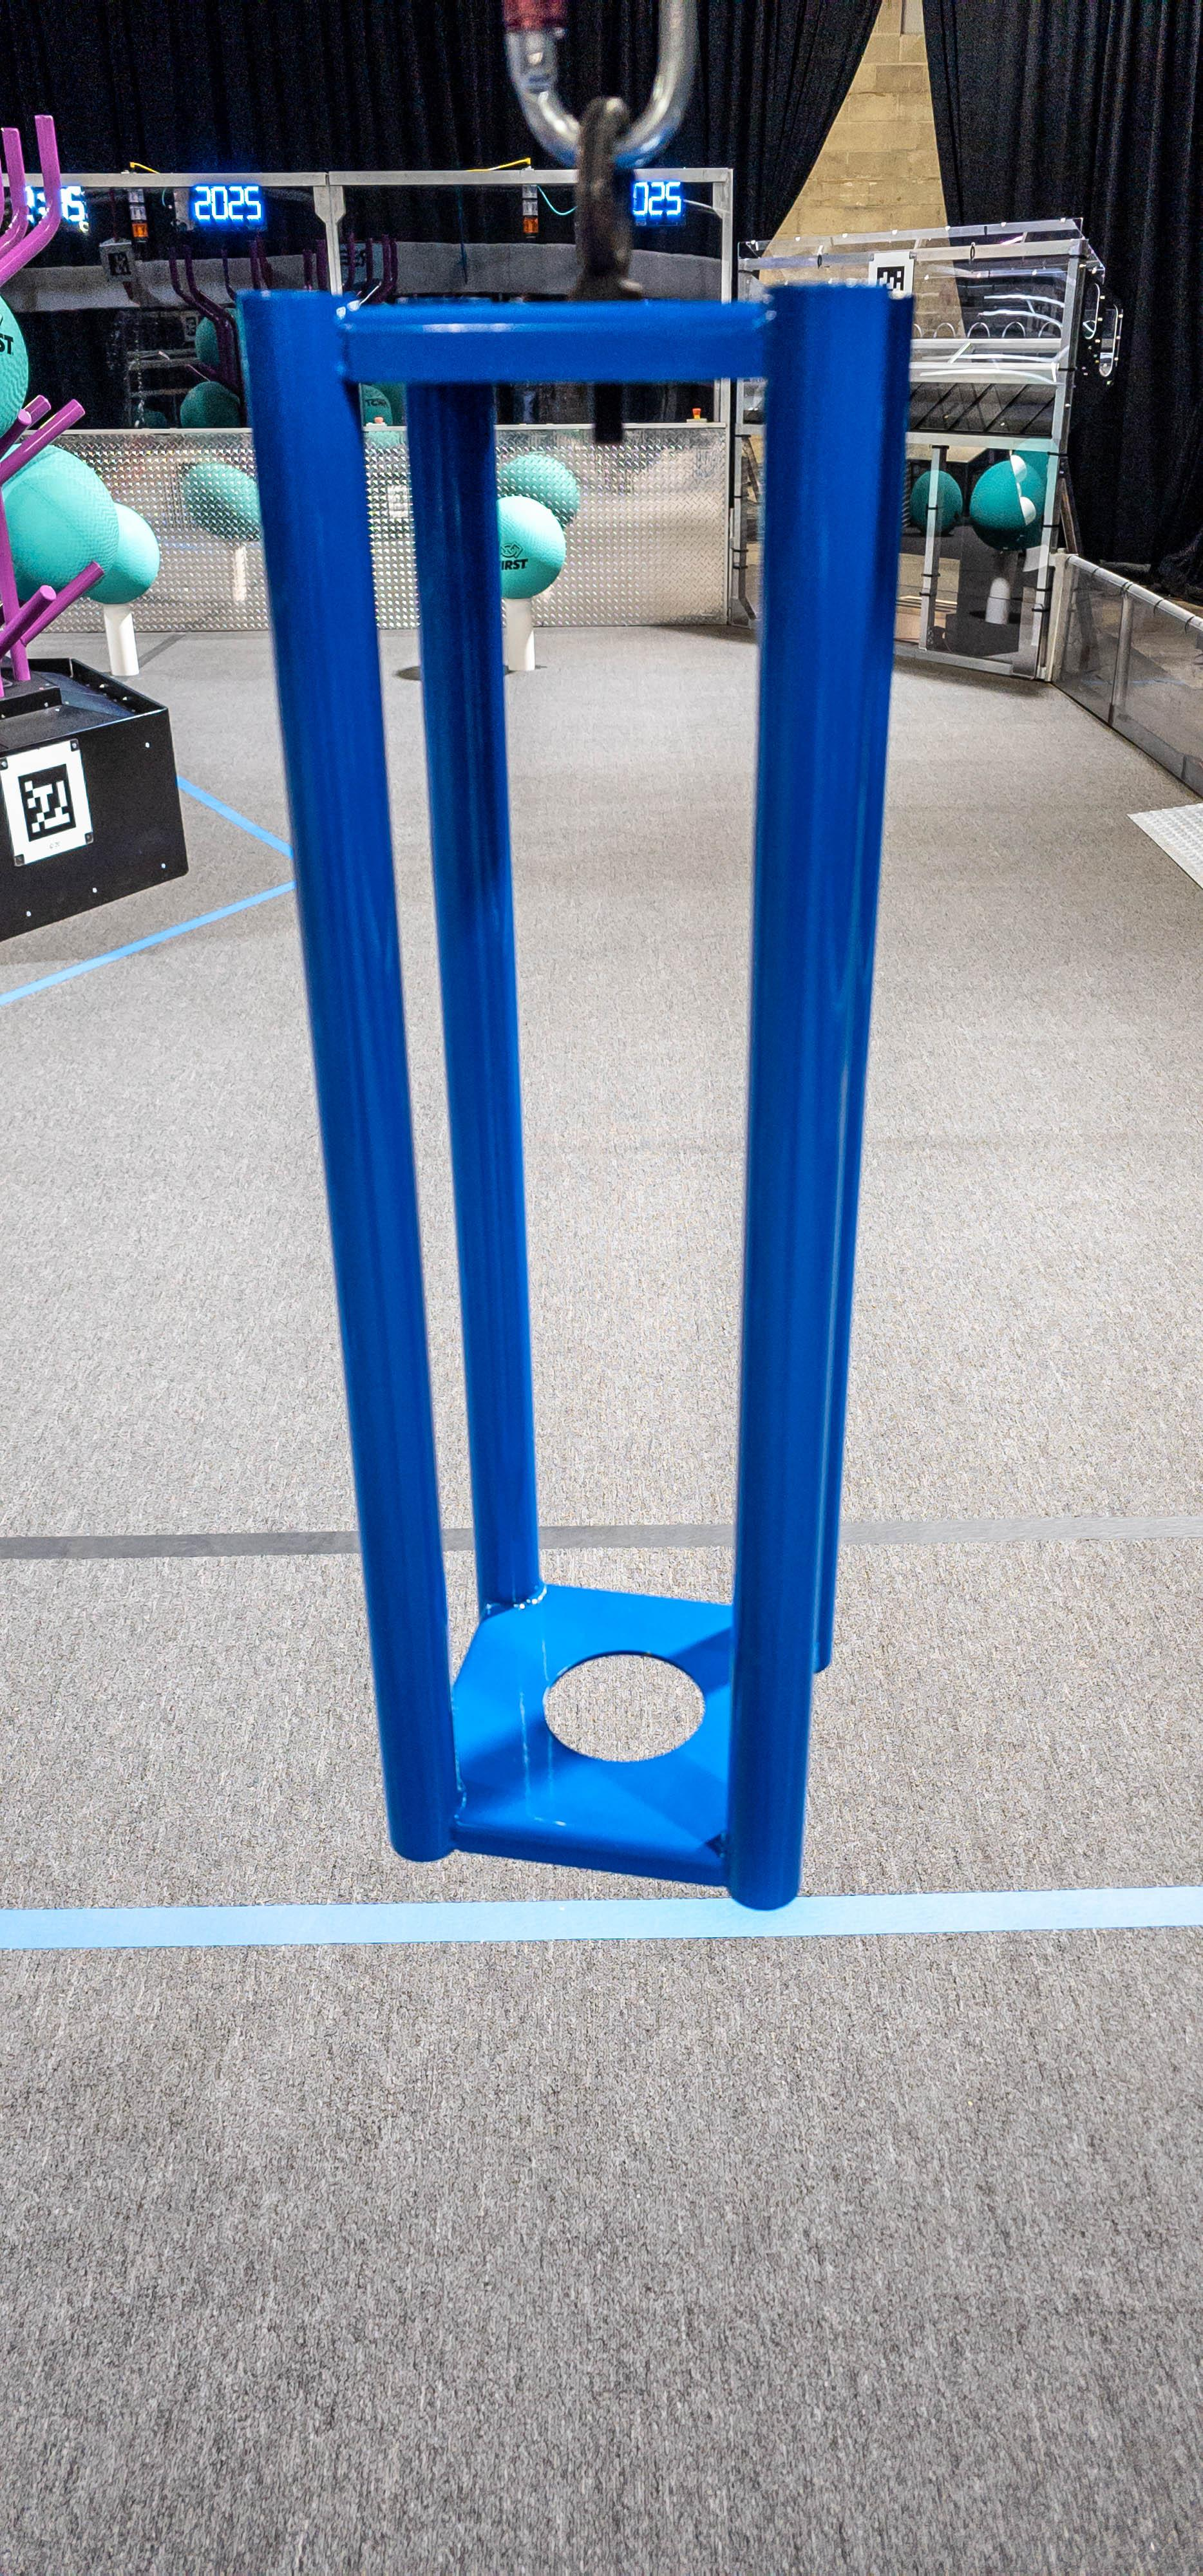ALGAE: (0, 444, 118, 606), (84, 503, 159, 605), (498, 496, 567, 600), (0, 291, 30, 444)
CORAL: (104, 605, 140, 677), (505, 598, 536, 672)
